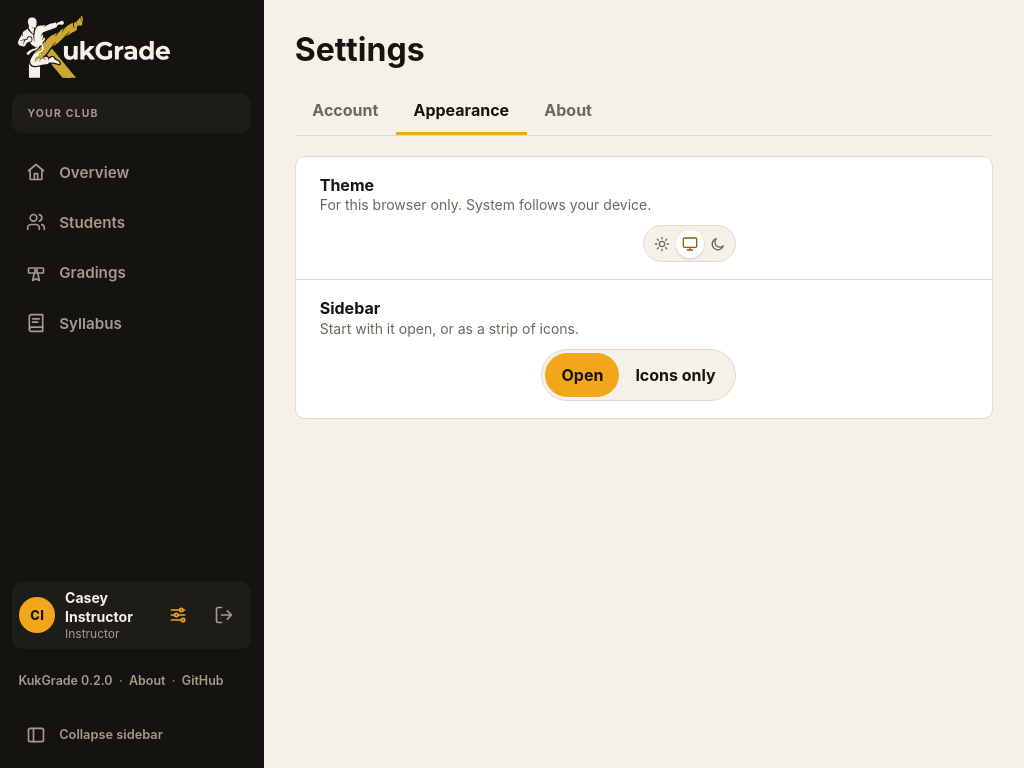
Test: Settings: Appearance › sets whether the sidebar is open or a strip of icons, and the sidebar follows
Click the button "Icons only".
click(676, 374)  # box [619,352,732,396]
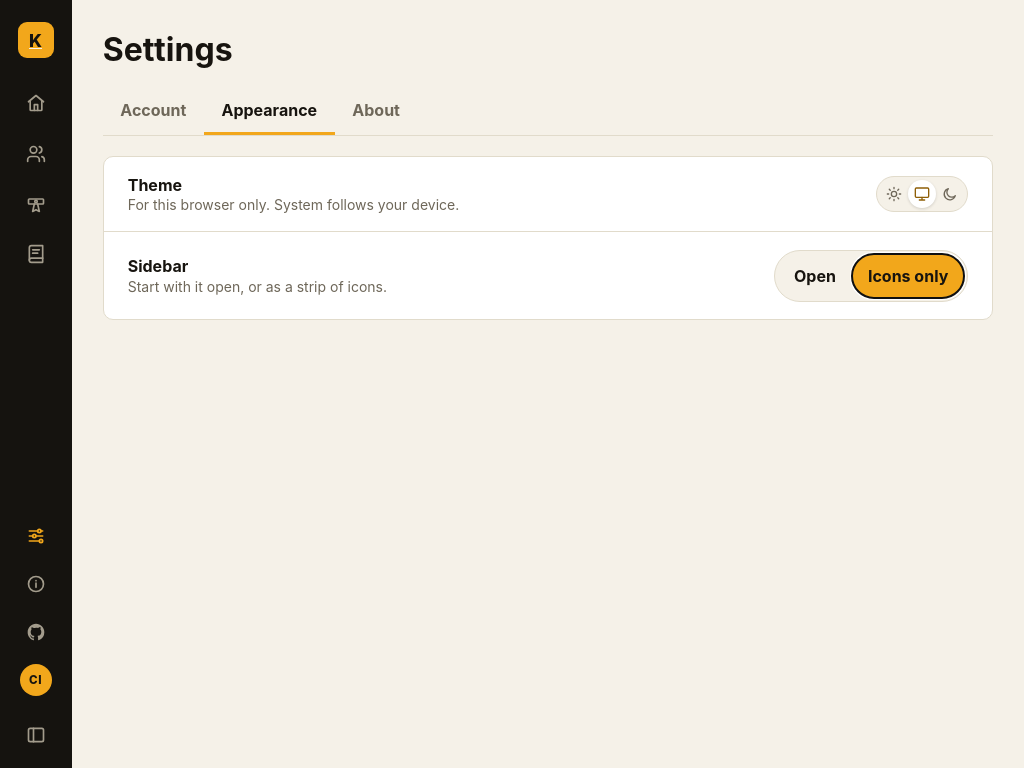
Now the button named "Expand sidebar" is shown, box [8,712,63,756]
